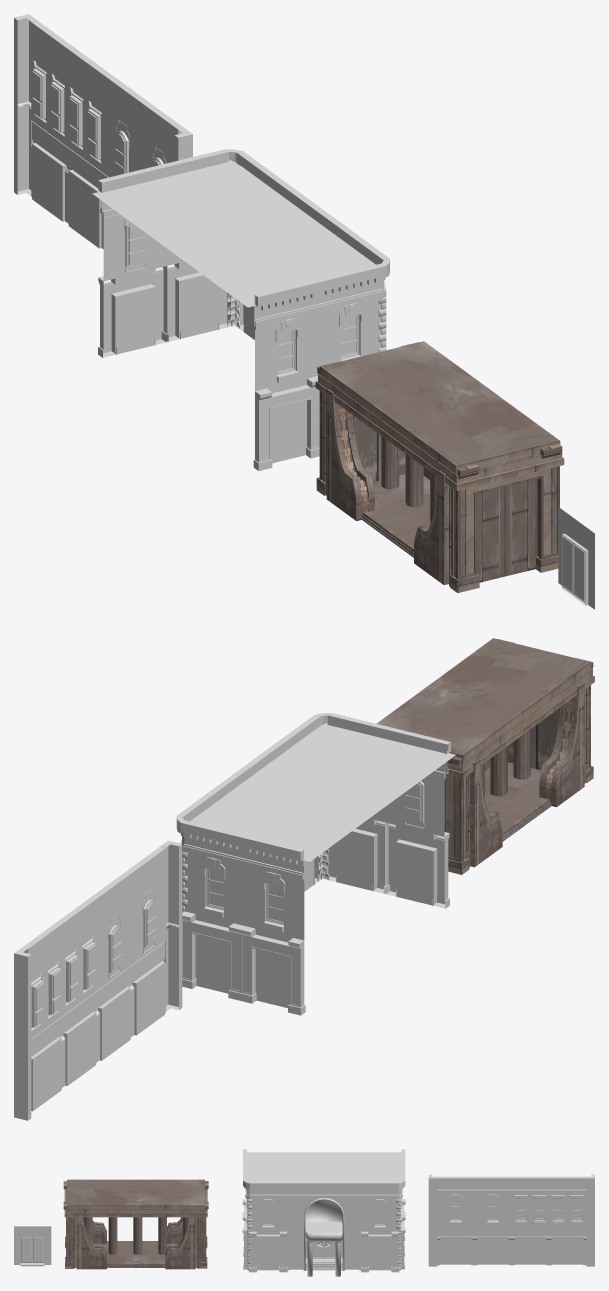
Rendered from BlockoutHouse02.fbx.
3 renders of one model, top to bottom at view 1: azimuth 30°, elevation 25°; view 2: azimuth 150°, elevation 25°; view 3: azimuth 270°, elevation 25°, orthographic. The views are drawn at different scales.
Parts seen in each view (by area): view 1: Break C.041, WallEmpty Down.075, EdgeCornerA.034, WallEmpty Down.063; view 2: Break C.041, EdgeCornerA.034, WallEmpty Down.075; view 3: Break C.041, EdgeCornerA.034, WallEmpty Down.075, WallEmpty Down.063.
Boxes of the visible parts, <box> form: Break C.041: <box>92,149,389,470</box>; WallEmpty Down.075: <box>315,341,564,592</box>; EdgeCornerA.034: <box>14,14,192,248</box>; WallEmpty Down.063: <box>558,507,594,609</box>; Break C.041: <box>176,713,455,1015</box>; EdgeCornerA.034: <box>14,840,182,1120</box>; WallEmpty Down.075: <box>376,638,594,874</box>; Break C.041: <box>242,1149,405,1276</box>; EdgeCornerA.034: <box>428,1174,594,1266</box>; WallEmpty Down.075: <box>63,1179,208,1269</box>; WallEmpty Down.063: <box>14,1226,51,1266</box>.
Size of the model in its own units: 1193 by 1154 by 6860.
